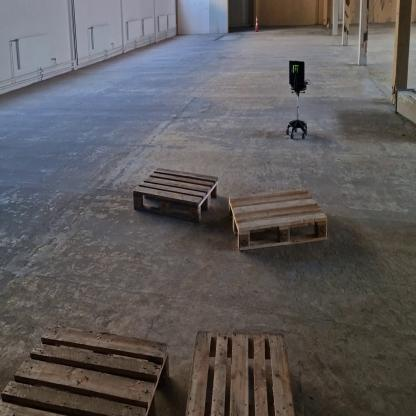BoxFace: (0, 320, 171, 416), (184, 332, 297, 416), (228, 187, 328, 253), (132, 165, 221, 226)
